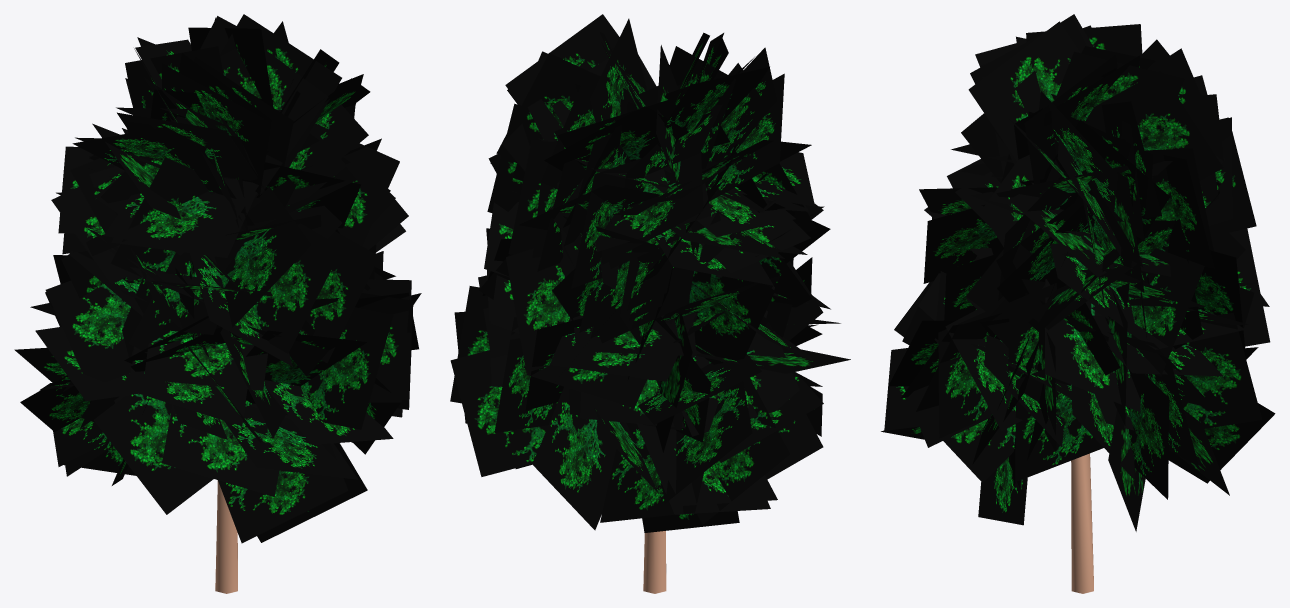
File: tree.glb
The picture shows the model from 3 angles, left to right: view 1: azimuth 30°, elevation 25°; view 2: azimuth 150°, elevation 25°; view 3: azimuth 270°, elevation 25°; orthographic projection.
Size of the model in its own units: 6.46 by 10.22 by 6.64.
2 materials, 1 textured.
